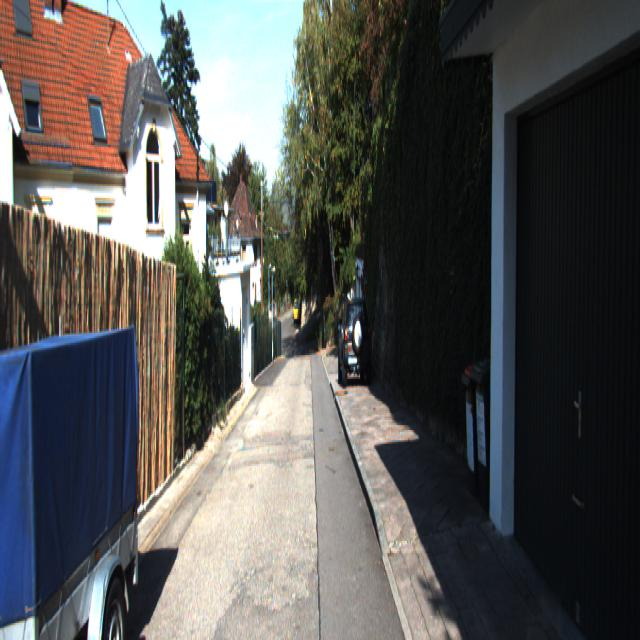Car: (0, 317, 141, 638), (337, 298, 373, 392)
